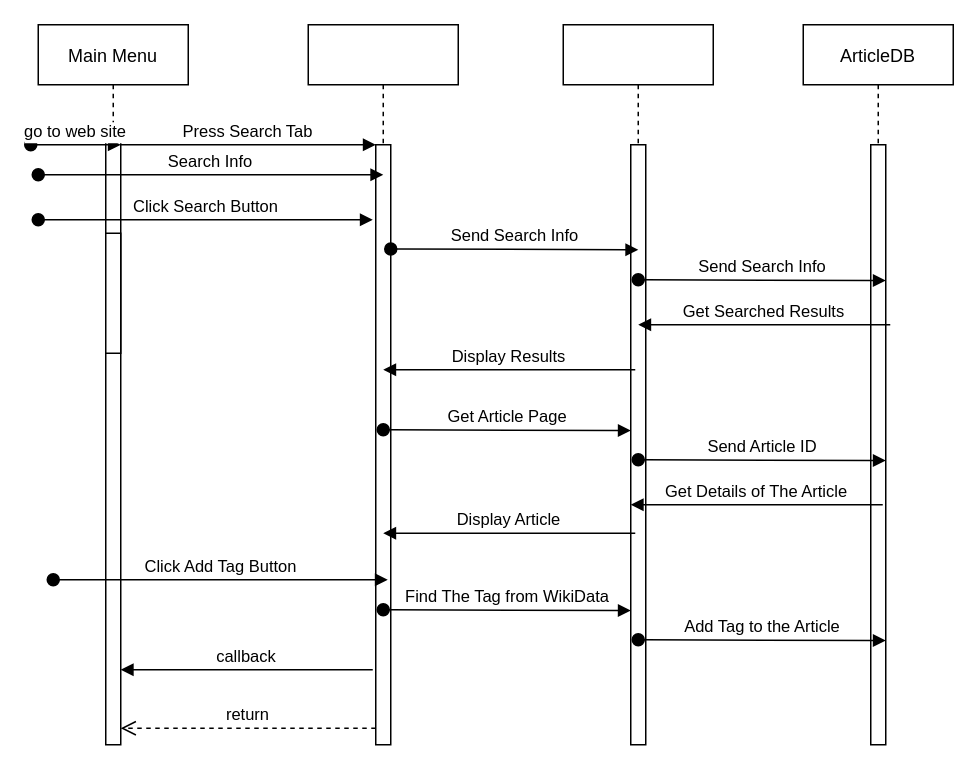
Image size: 978x770. Some labels were removed from this diagram. The shapes that lost their labels are listed below. From the top down, each one's box as (x1, y1, x2, y2) in pixels, then its label:
(307, 23, 458, 745): Search Panel
(562, 23, 713, 745): Search Controller
